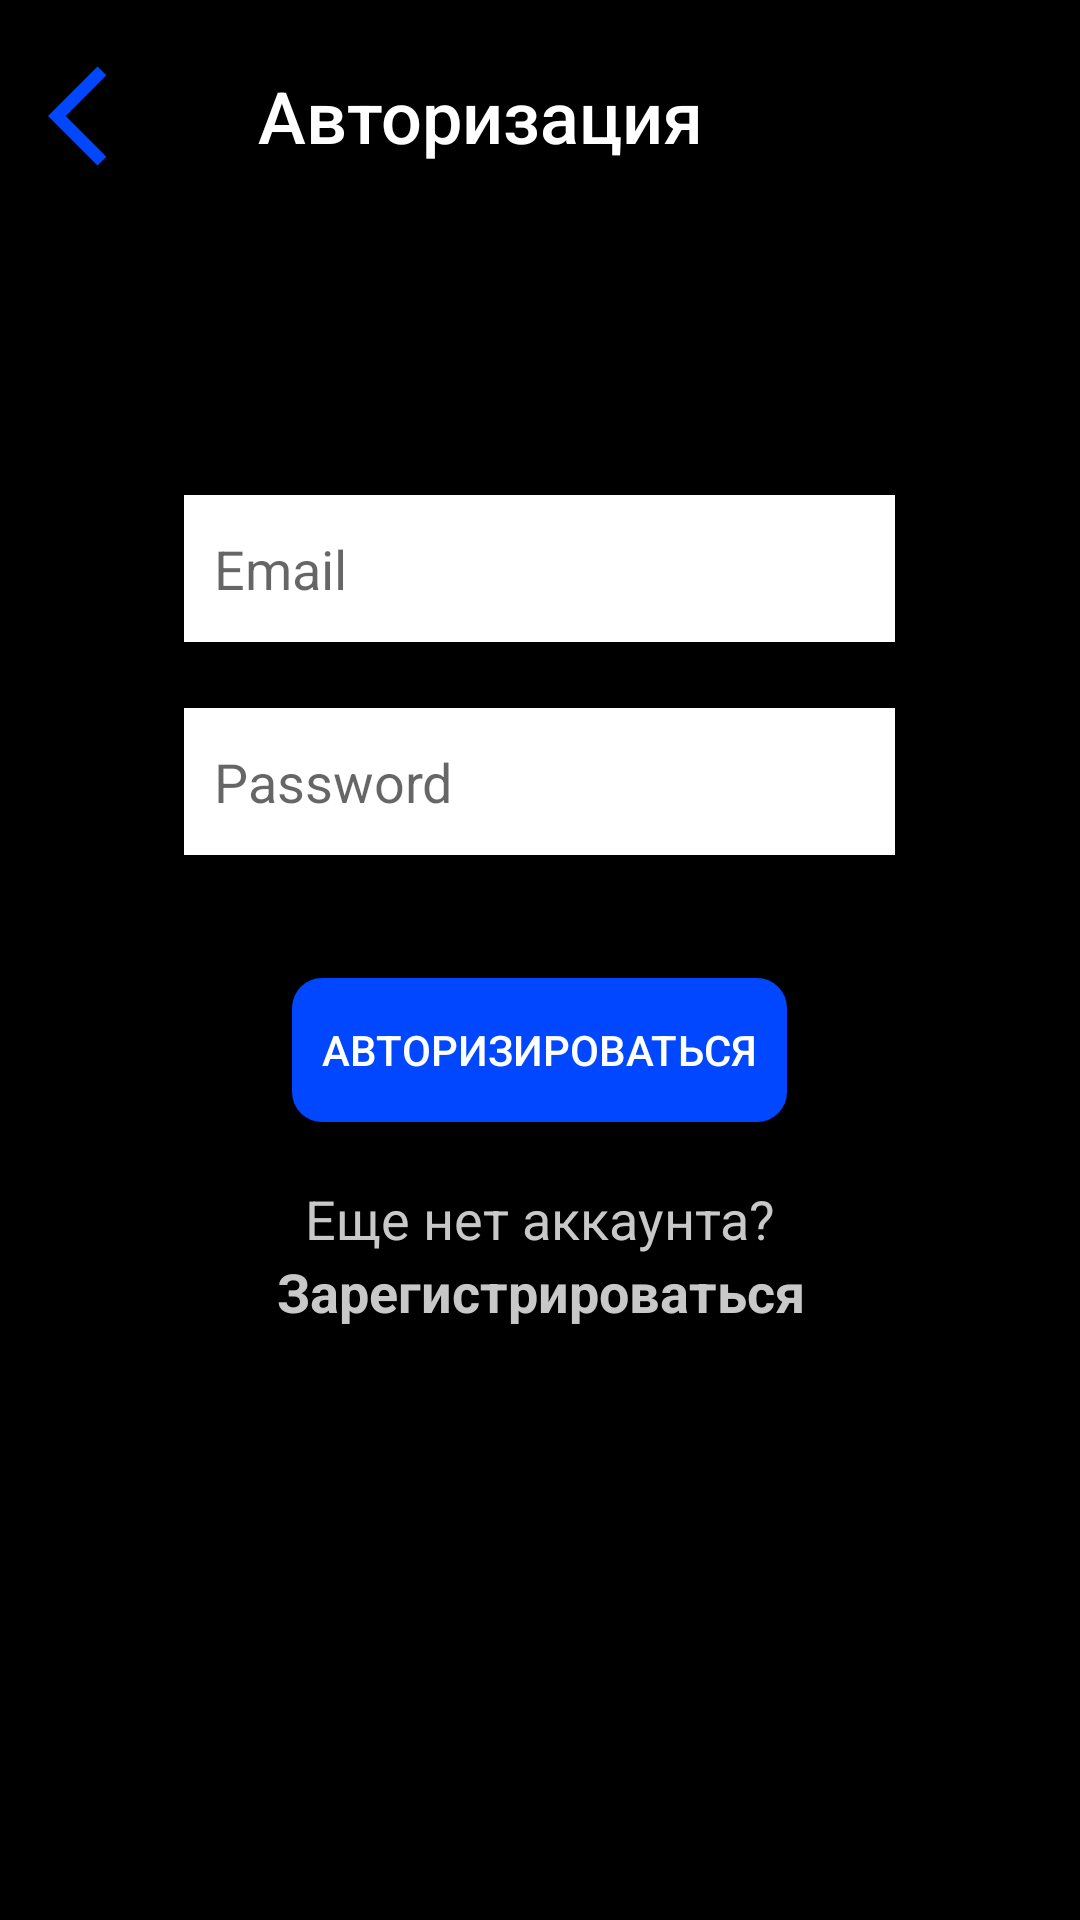

Screen size 1080 x 1920. Icon name, then its box in pixels as (x1, y1, x2, y2):
arrow back: (48, 66, 107, 166)
